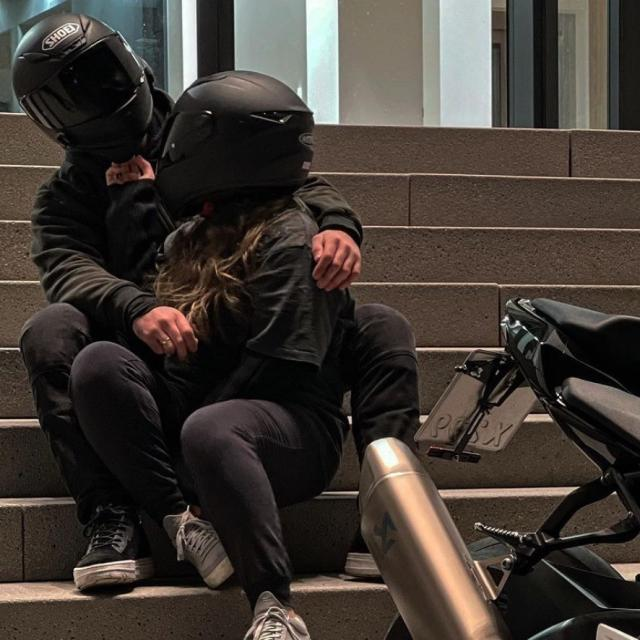helmet: (153, 64, 318, 226), (6, 7, 158, 152)
